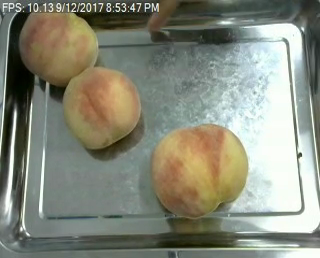Peach: (152, 123, 249, 217), (61, 65, 141, 150), (22, 4, 101, 85)
